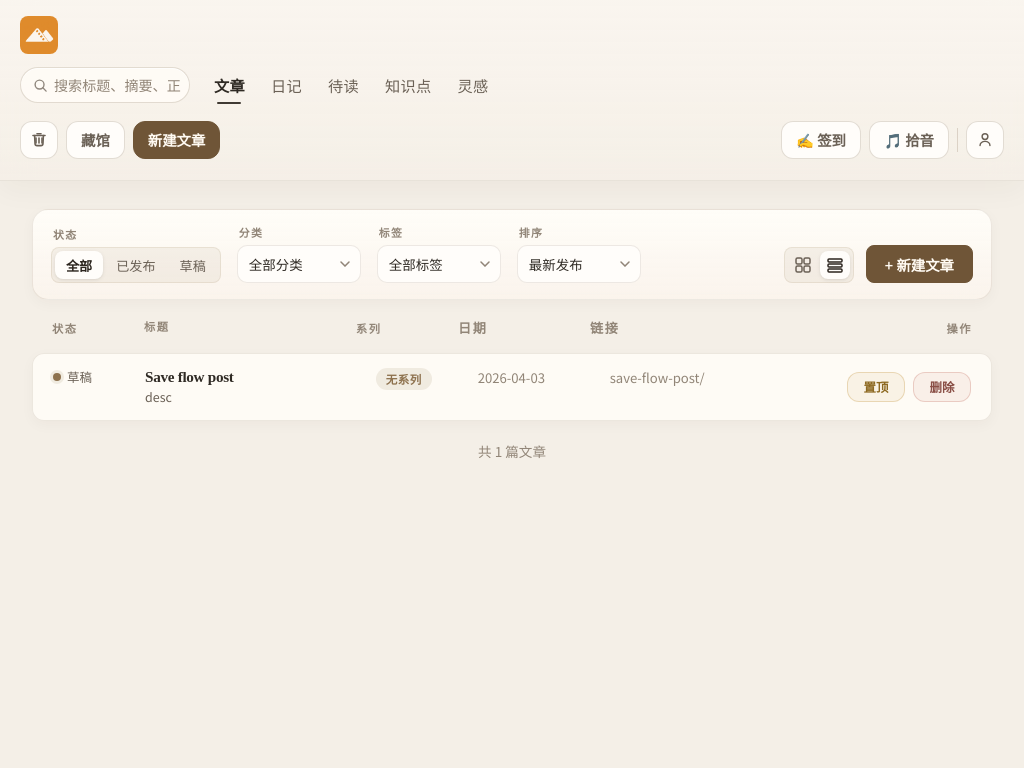
Test: App save flow › shows 已保存 for a clean opened document, 保存 for dirty state, 保存中… while saving, and returns to 已保存 after success
This screenshot has width=1024, height=768.
Expected: the text "Save flow post" is shown, left=145, top=368, right=234, bottom=386
# In dashboard mode, the save button is not visible until a post is opened
Click the button "草稿 Save flow post desc 无系列 2026-04-03 save-flow-post/" at [189, 376], box left=53, top=368, right=831, bottom=406
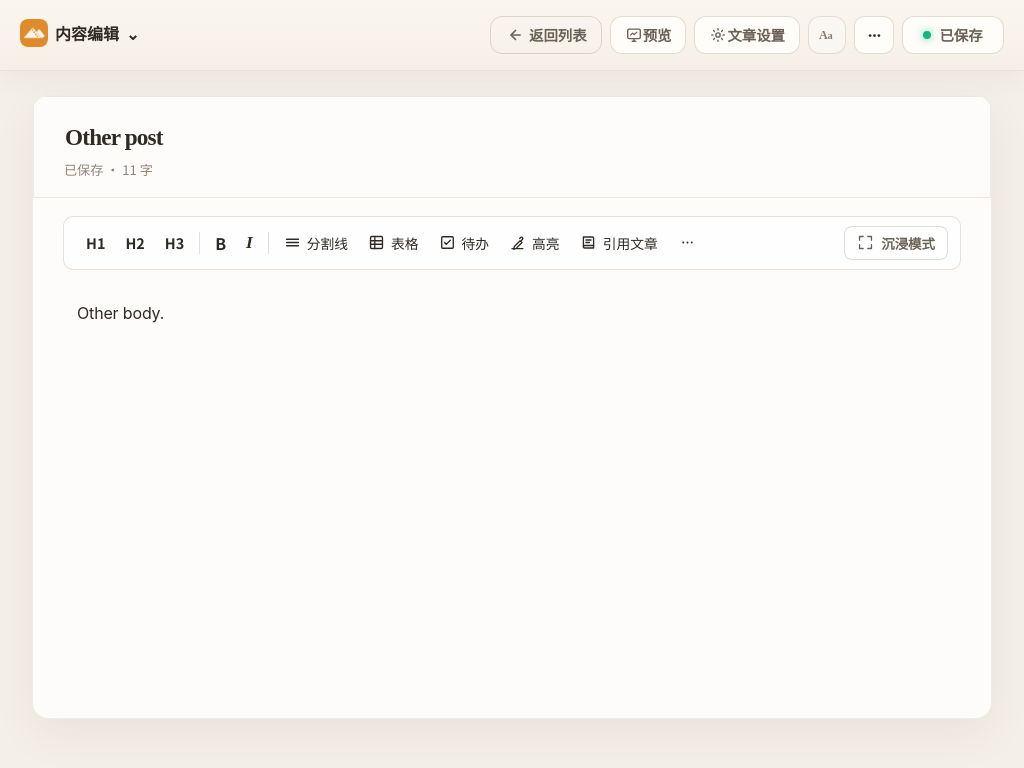
Expected: the text box named "Markdown 编辑器" is shown, left=63, top=270, right=961, bottom=688
Expected: the button "已保存" is disabled, left=902, top=16, right=1004, bottom=54
Replace the text in the field named "标题" with "Updated title" at [512, 138], box left=64, top=123, right=960, bottom=153
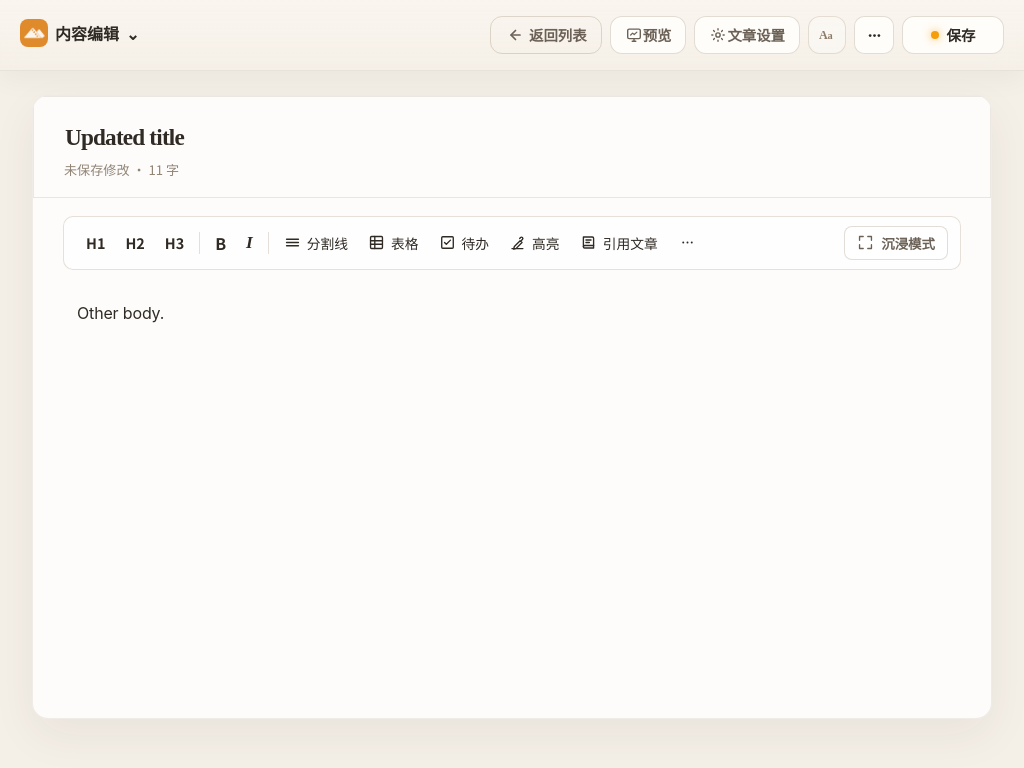
Expected: the button "保存" is enabled
Click the button "保存" at [953, 35], box left=902, top=16, right=1004, bottom=54
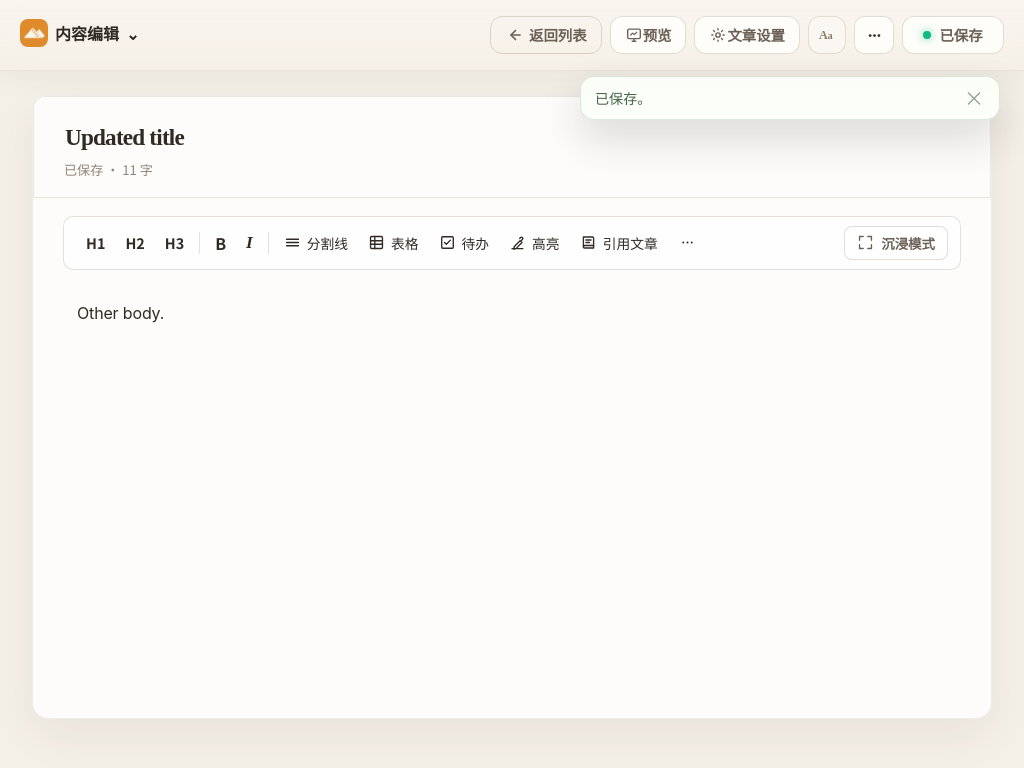
Expected: the button named "保存中…" is disabled, left=902, top=16, right=1004, bottom=54
Expected: the button "已保存" is disabled, left=902, top=16, right=1004, bottom=54
Expected: the text "已保存。" is shown, left=595, top=88, right=651, bottom=108
